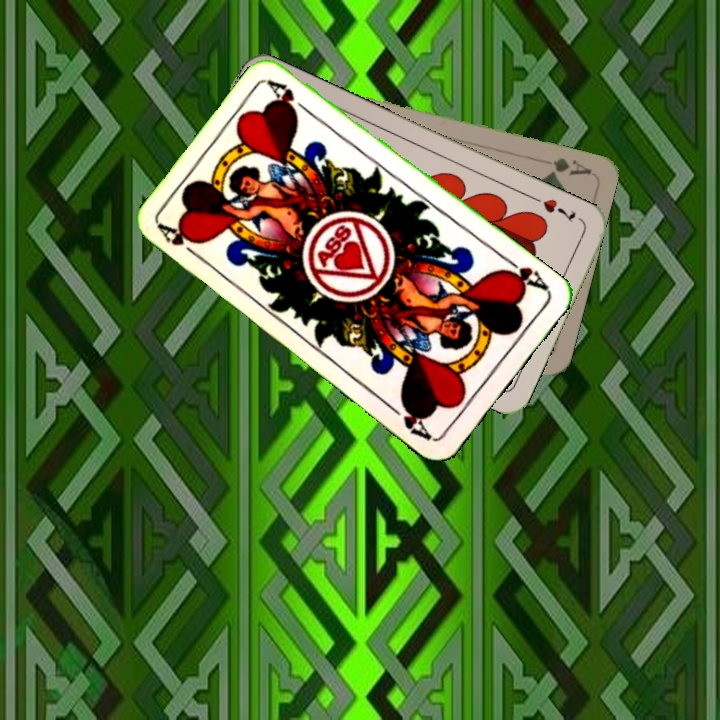GA: (534, 153, 594, 179)
H7: (528, 192, 579, 226)
HA: (497, 252, 552, 294), (155, 220, 207, 264)
